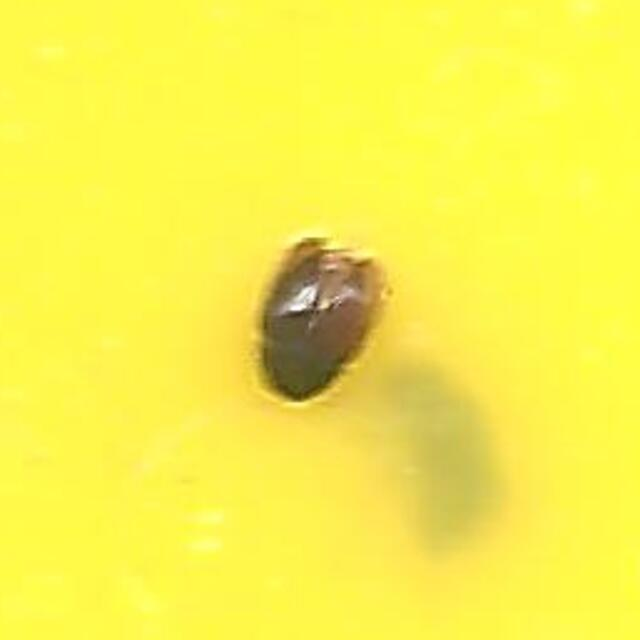Coleoptera: (249, 235, 391, 405)
